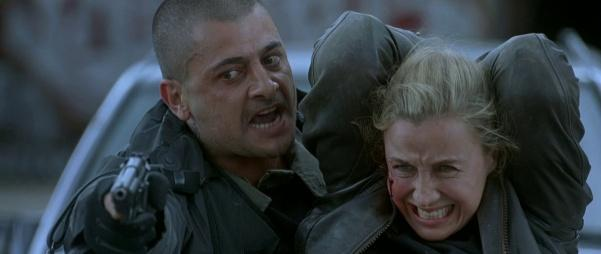Gun: (111, 154, 151, 219)
